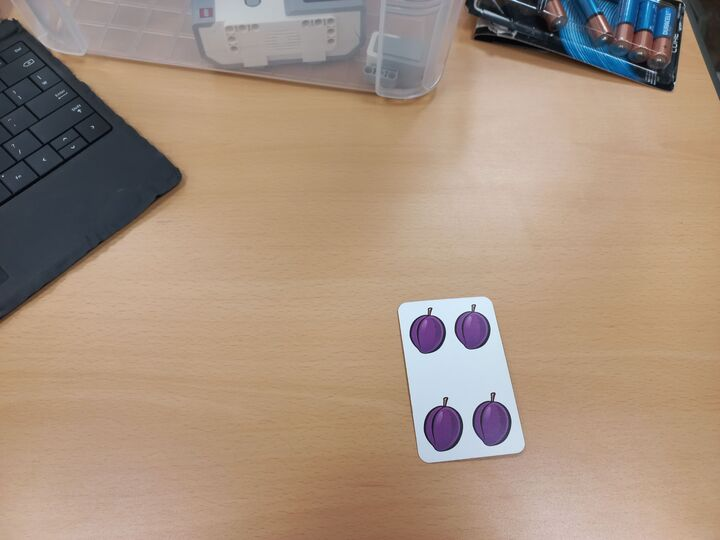plum4: (395, 295, 528, 465)
